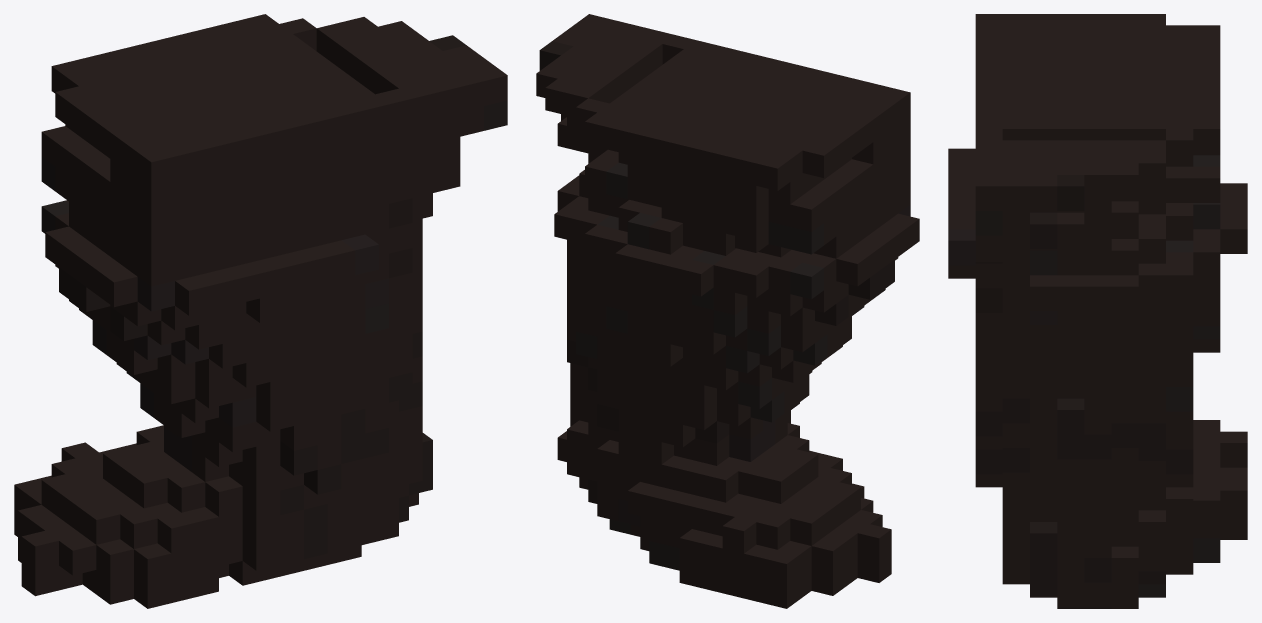
Rendered from bear_split-0-LegR.obj.
The picture shows the model from 3 angles, left to right: view 1: azimuth 30°, elevation 25°; view 2: azimuth 150°, elevation 25°; view 3: azimuth 270°, elevation 25°; orthographic projection. The views are drawn at different scales.
Visible parts, largest first — view 1: LegR; view 2: LegR; view 3: LegR.
Boxes of the visible parts, x1,y1,x2,y2 form: LegR: (14, 14, 507, 608); LegR: (536, 14, 919, 608); LegR: (948, 14, 1247, 608).
Bounding box in the file's own units: 1.7 × 1.9 × 1.1.
1 material, 1 textured.
